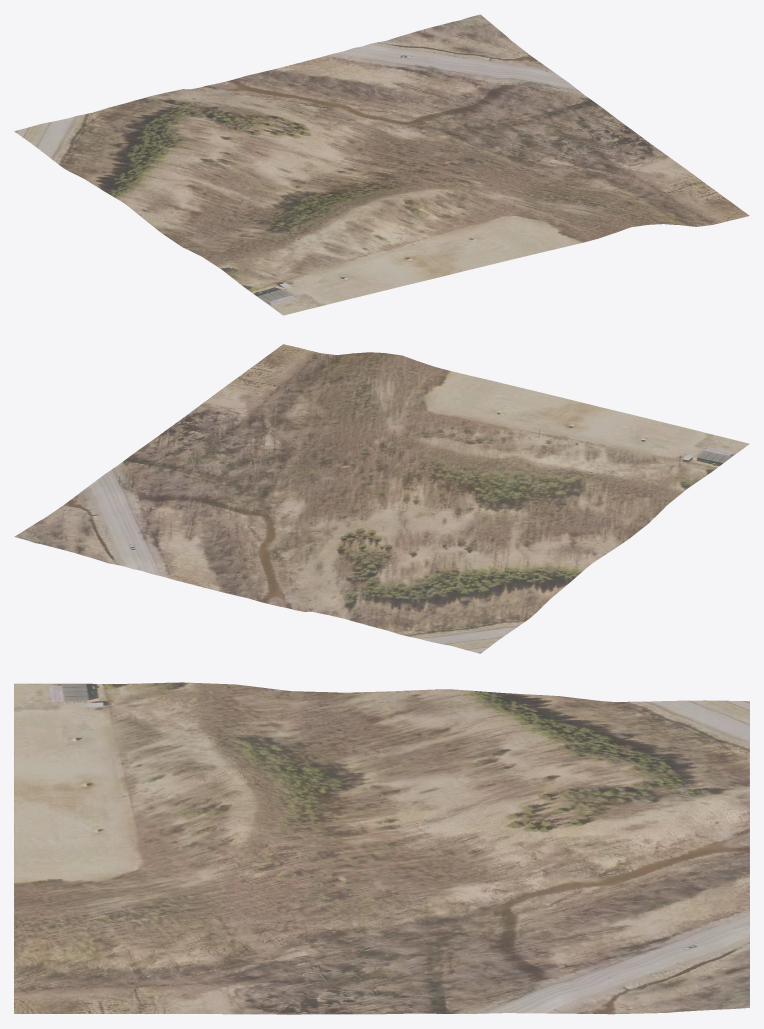
Rendered from CM_Terrain_24492916_6817336.fbx.
3 renders of one model, top to bottom at view 1: azimuth 30°, elevation 25°; view 2: azimuth 150°, elevation 25°; view 3: azimuth 270°, elevation 25°, orthographic. The views are drawn at different scales.
Parts seen in each view (by area): view 1: CM_Terrain_24492916_6817336_LOD0; view 2: CM_Terrain_24492916_6817336_LOD0; view 3: CM_Terrain_24492916_6817336_LOD0.
Boxes of the visible parts, x1,y1,x2,y2 form: CM_Terrain_24492916_6817336_LOD0: (14, 14, 749, 315); CM_Terrain_24492916_6817336_LOD0: (14, 344, 749, 653); CM_Terrain_24492916_6817336_LOD0: (14, 682, 749, 1014).
Size of what is drawn, in the model's own units: 205 by 10.8 by 205.
